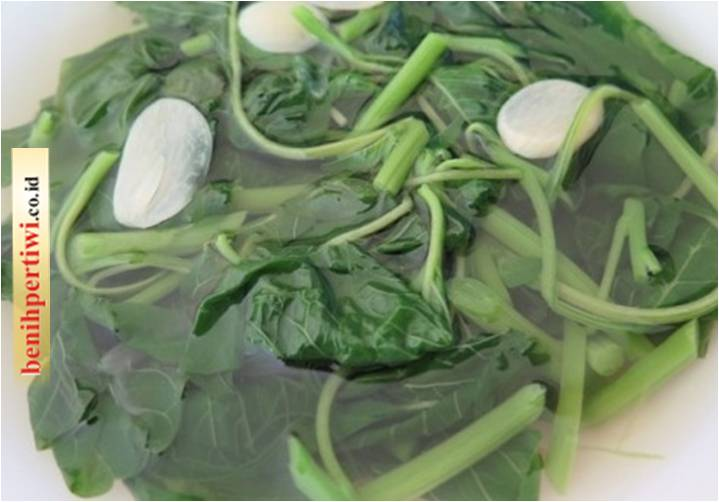Sayur Bayam: (38, 7, 707, 502)
